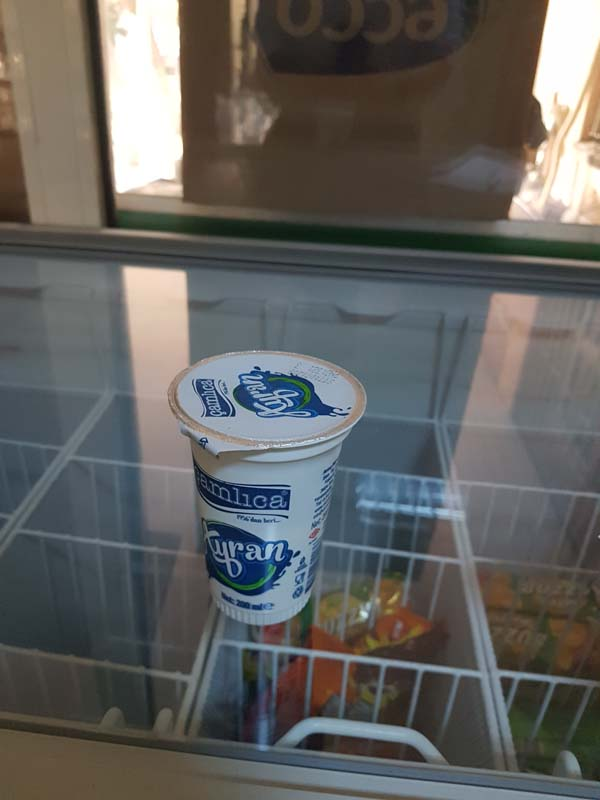camlicaayran: (163, 346, 374, 631)
